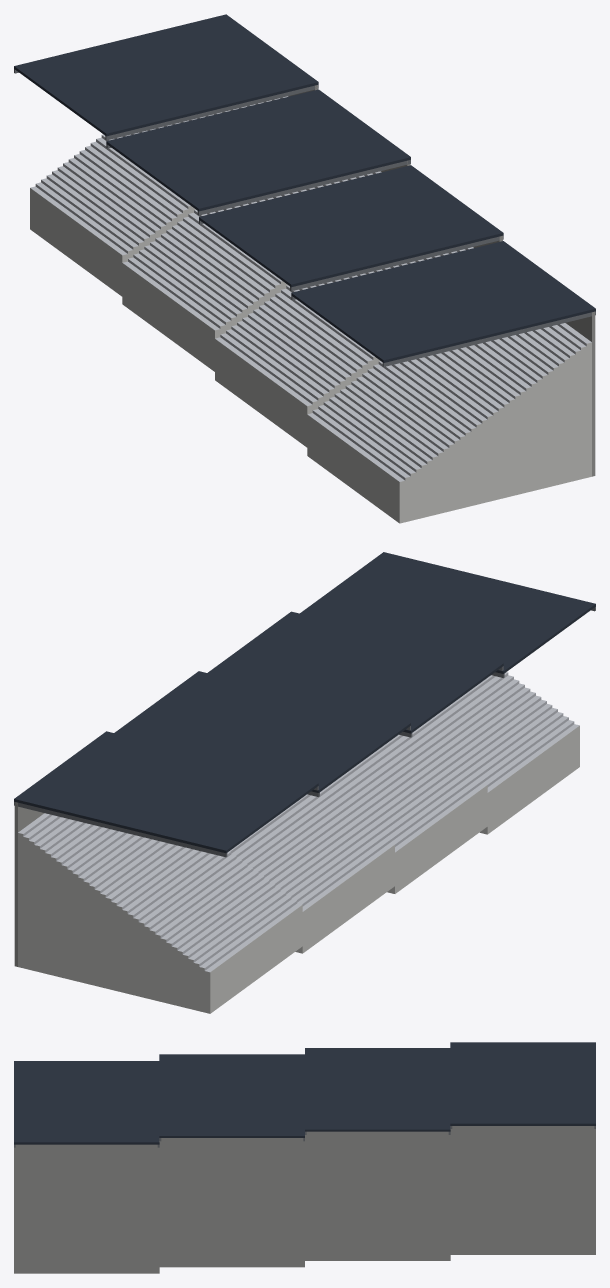
Rendered from stand_endurance.glb.
3 renders of one model, top to bottom at view 1: azimuth 30°, elevation 25°; view 2: azimuth 150°, elevation 25°; view 3: azimuth 270°, elevation 25°, orthographic. The views are drawn at different scales.
Visible parts, largest first — view 1: chunk_0_0; view 2: chunk_0_0; view 3: chunk_0_0.
Part boxes in pixels (box(x1,y1,x2,y2)): chunk_0_0: box(14, 14, 595, 523); chunk_0_0: box(14, 552, 595, 1013); chunk_0_0: box(14, 1042, 595, 1273).
Bounding box in the file's own units: 33.1 × 28.43 × 99.83.
